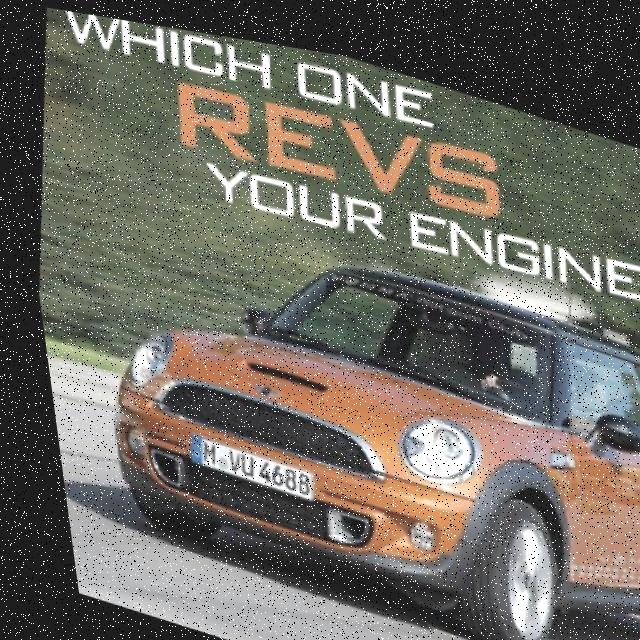license_plate: (176, 428, 306, 494)
